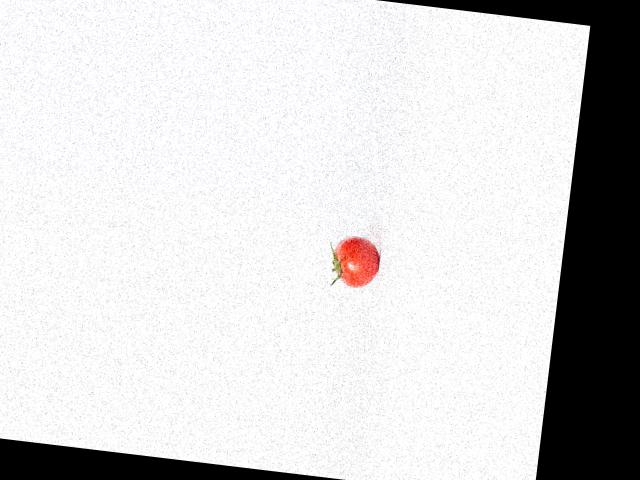tomato: (331, 232, 382, 289)
